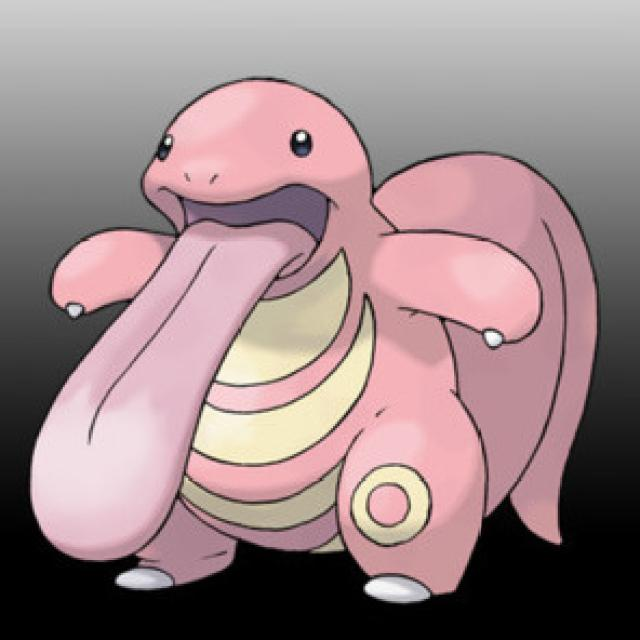Lickitung: (53, 74, 570, 596)
